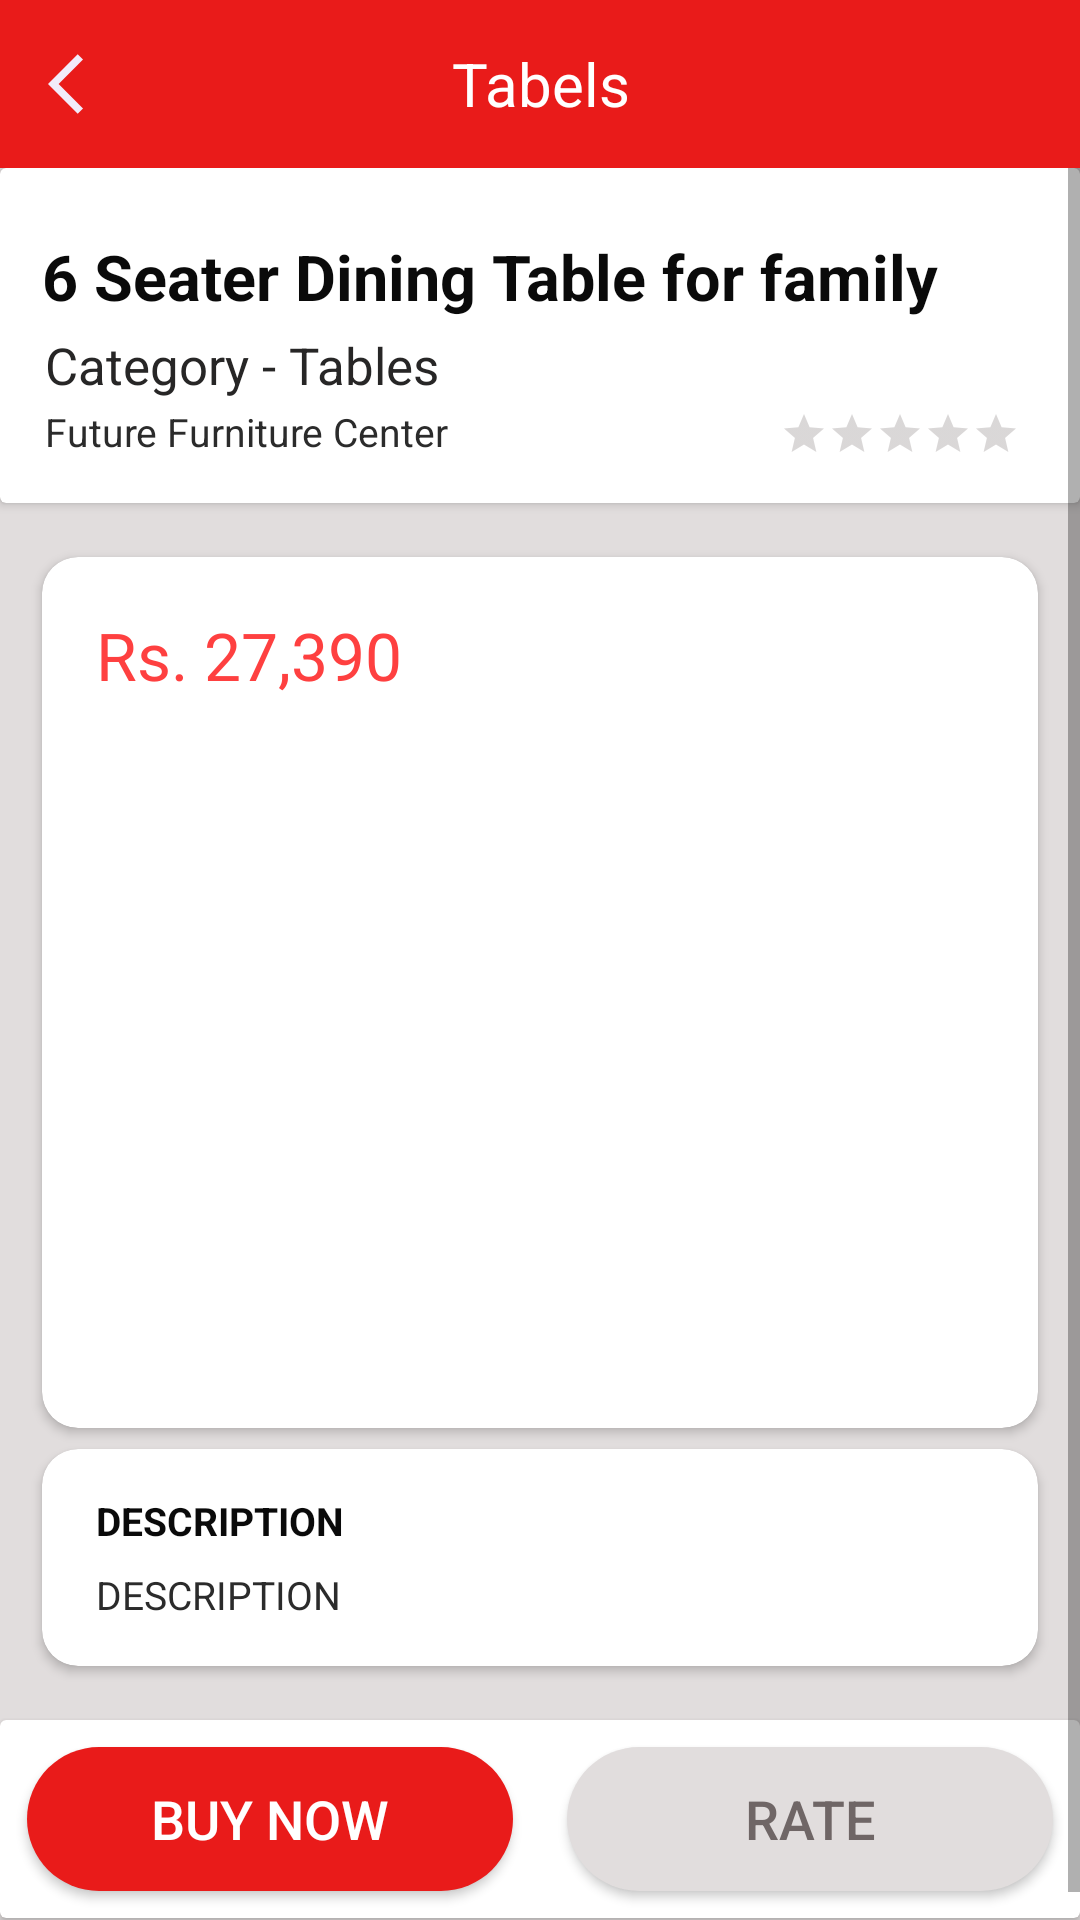

Icons on this 1080px x 1920px Android screen, each with the point to tap as (x=x, y=y):
back: (x=65, y=84)
